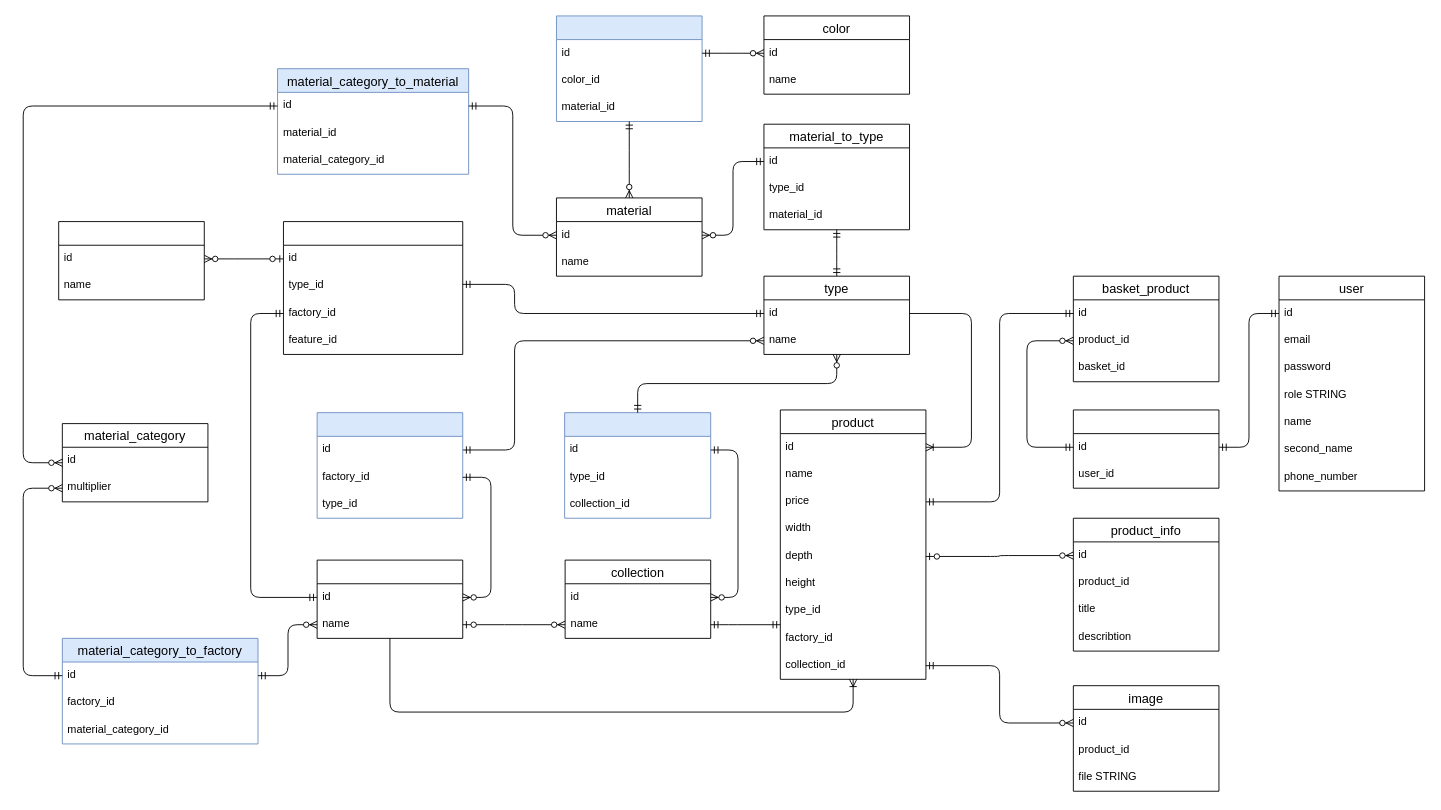
This 1441x810 diagram has some shape labels left out. The box of each missing label's shape, as (x1, y1, x2, y2) in pixels:
basket: (1072, 409, 1219, 488)
collection_to_type: (564, 412, 711, 518)
color_to_material: (556, 15, 702, 121)
factory: (316, 559, 463, 638)
feature: (58, 221, 204, 300)
features_to_type_to_factory: (283, 221, 463, 354)
type_to_factory: (316, 412, 463, 518)
